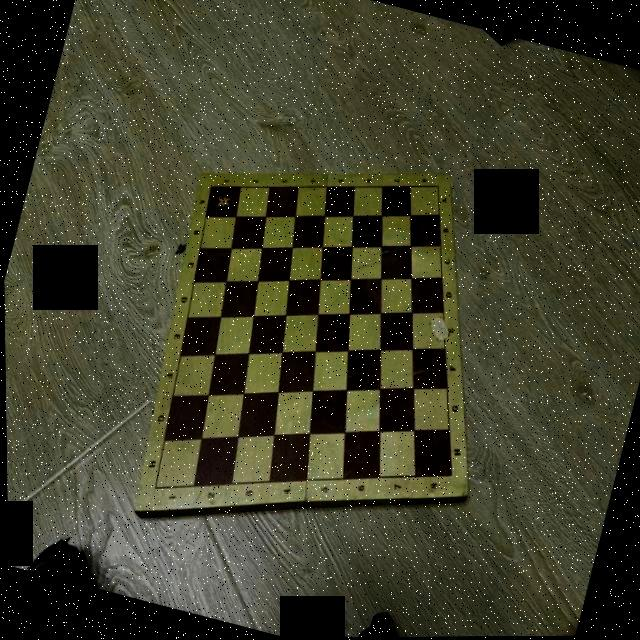chess-table-corners: (442, 470, 456, 482), (148, 482, 158, 494), (432, 182, 442, 192), (206, 182, 214, 192)
